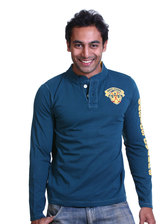clothoes: (23, 61, 157, 218)
